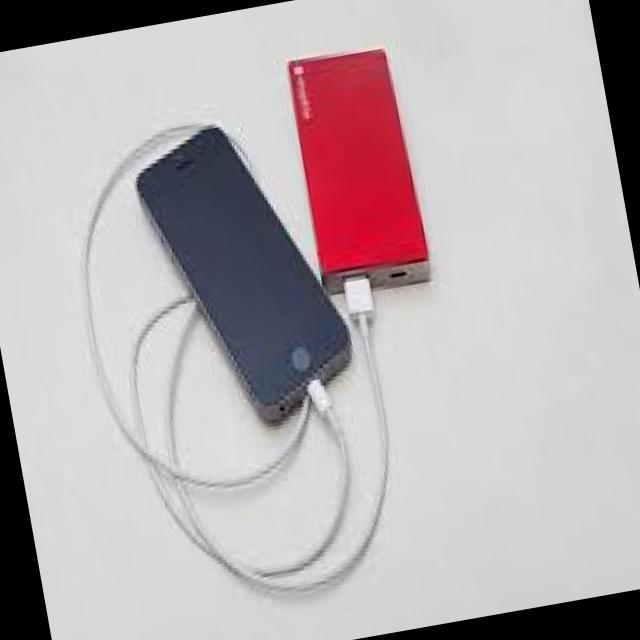portable-charger: (284, 38, 434, 306)
